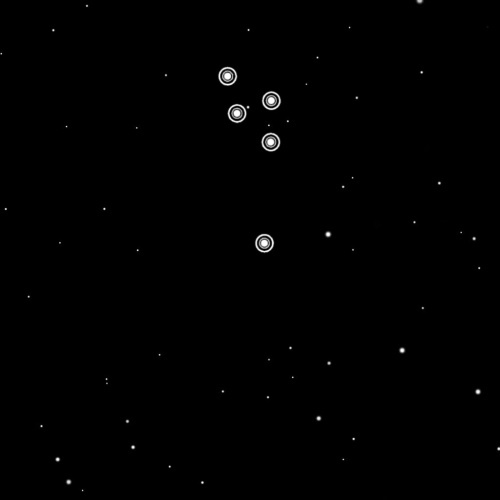delphinus: (212, 59, 285, 259)
